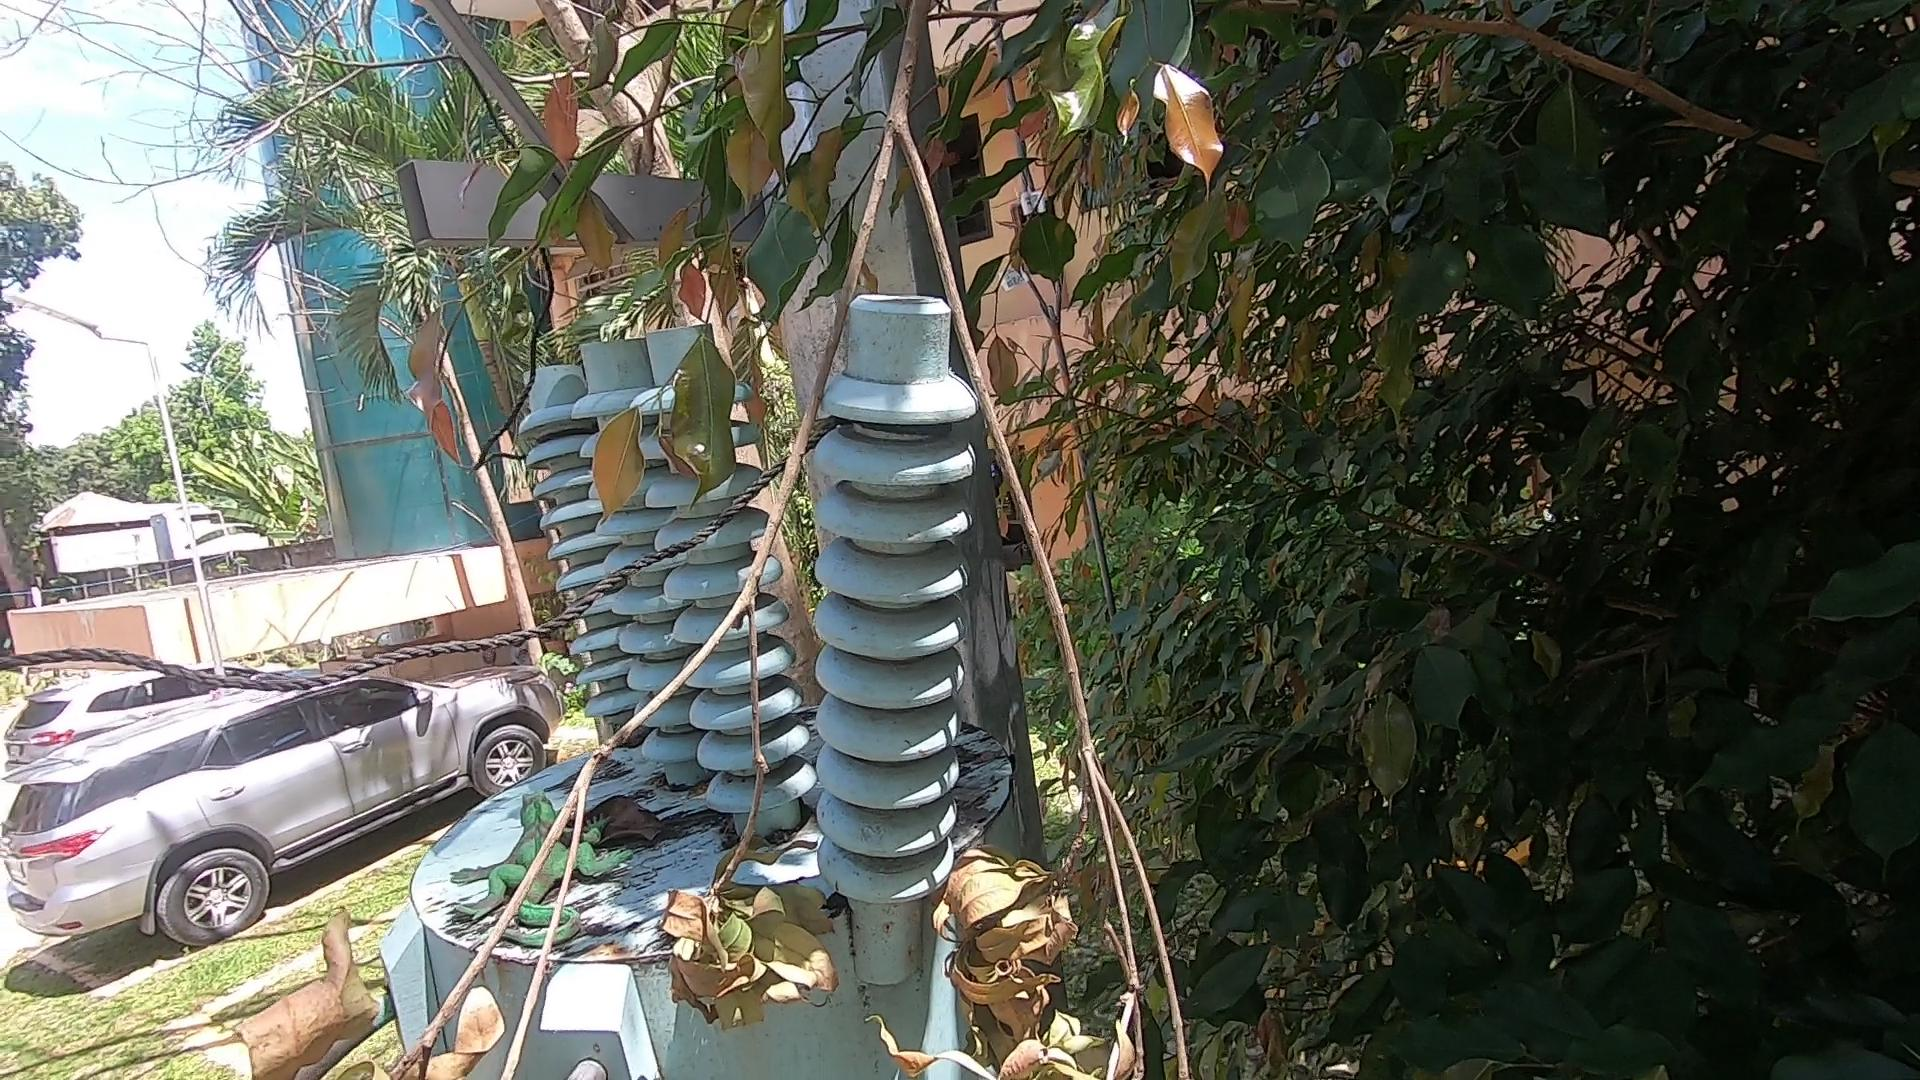branch with leaves: (186, 1, 1218, 1075)
leaf: (560, 790, 673, 870)
